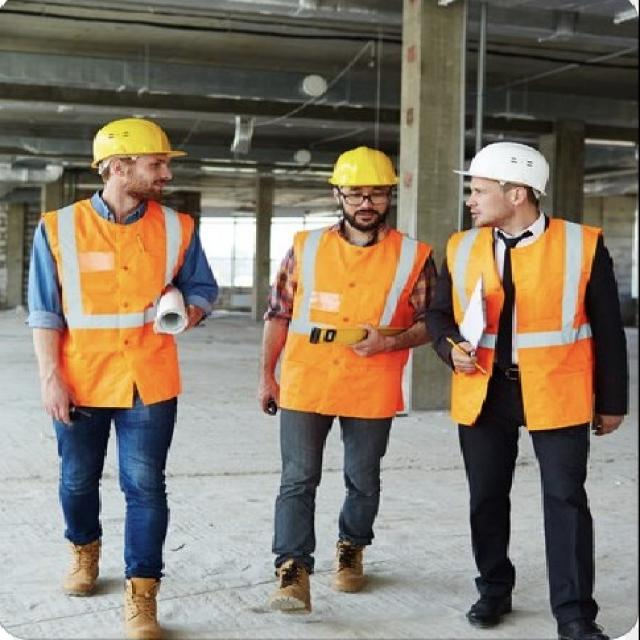boots: (537, 541, 627, 640), (452, 520, 521, 640), (259, 501, 319, 618), (331, 495, 392, 601), (116, 551, 174, 640), (56, 507, 106, 606)
helmet: (454, 132, 569, 234), (314, 130, 418, 228), (66, 95, 195, 169)
no-gloves: (18, 318, 107, 432), (253, 283, 290, 425), (342, 313, 418, 372), (452, 329, 498, 386), (583, 392, 626, 449)
person: (10, 87, 221, 640), (443, 118, 632, 640), (247, 111, 433, 629)
vest: (446, 226, 624, 432), (39, 198, 189, 414), (291, 220, 422, 424)
